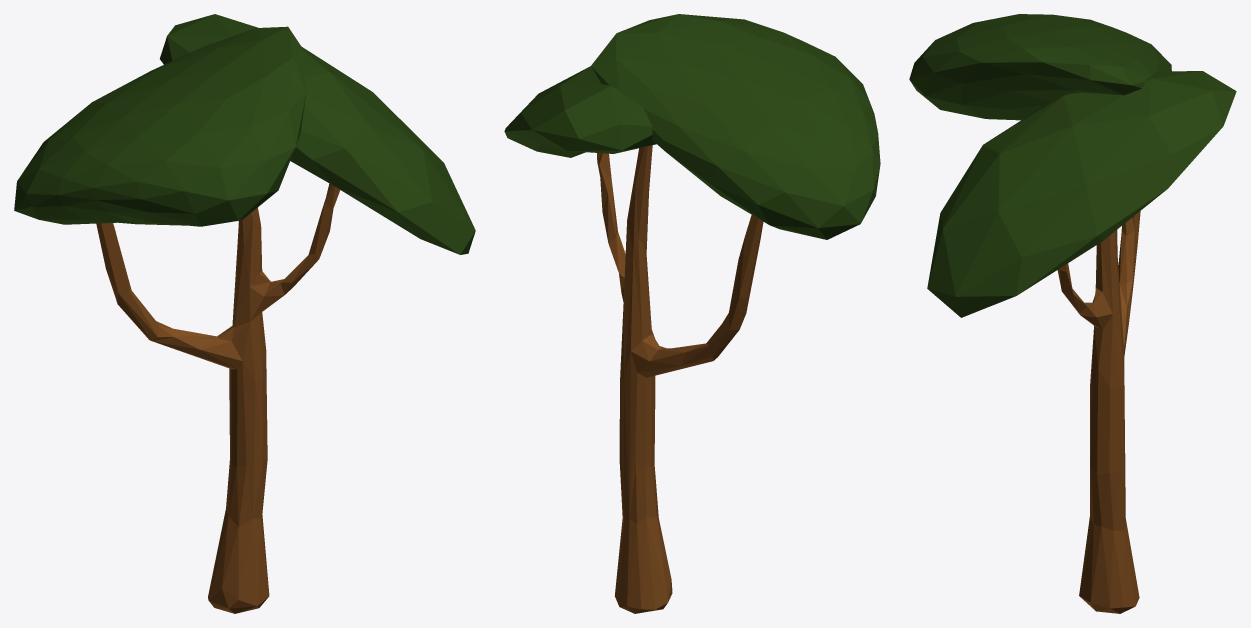
File: SM_tree_regular_01.fbx
The picture shows the model from 3 angles, left to right: view 1: azimuth 30°, elevation 25°; view 2: azimuth 150°, elevation 25°; view 3: azimuth 270°, elevation 25°; orthographic projection. The views are drawn at different scales.
Parts seen in each view (by area): view 1: Object216; view 2: Object216; view 3: Object216.
Part boxes in pixels (left/top/right/bottom): Object216: left=14, top=14, right=475, bottom=613; Object216: left=504, top=14, right=880, bottom=613; Object216: left=909, top=14, right=1236, bottom=613.
Size of the model in its own units: 184 by 136 by 256.
